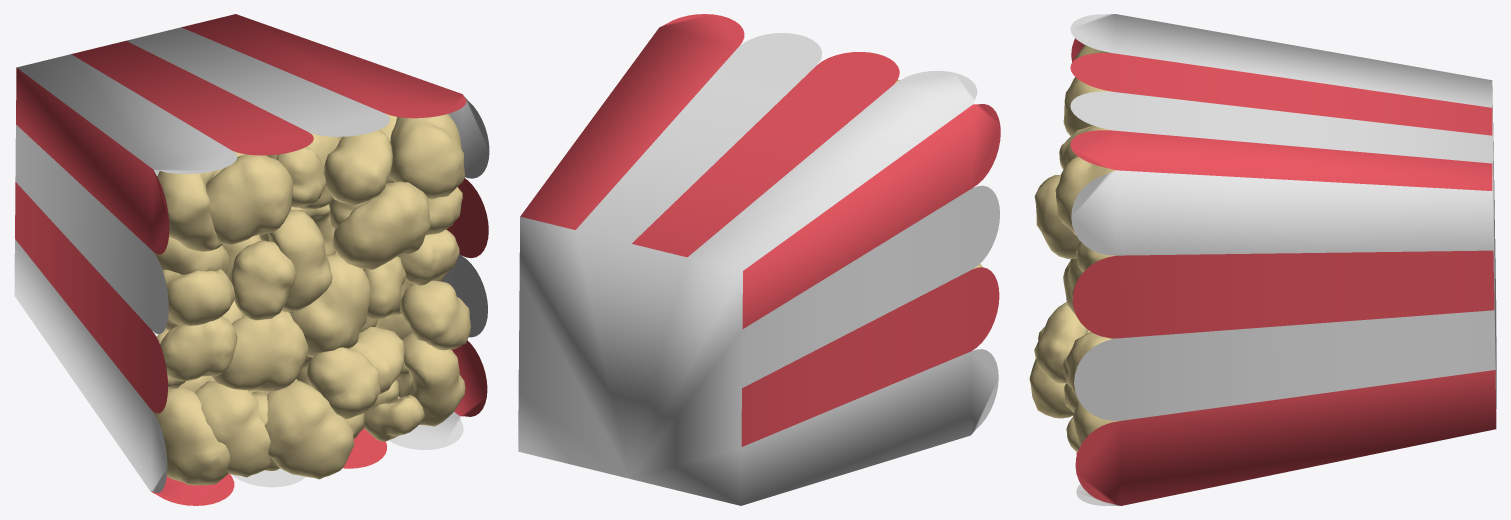
File: popcorn.fbx
3 renders of one model, left to right at view 1: azimuth 30°, elevation 25°; view 2: azimuth 150°, elevation 25°; view 3: azimuth 270°, elevation 25°, orthographic. The views are drawn at different scales.
Visible parts, largest first — view 1: Circle; view 2: Circle; view 3: Circle.
Boxes of the visible parts, left/top/right/bottom form: Circle: left=14, top=14, right=489, bottom=505; Circle: left=518, top=14, right=1000, bottom=505; Circle: left=1029, top=14, right=1496, bottom=505.
Size of the model in its own units: 16.78 by 16.81 by 20.48.
